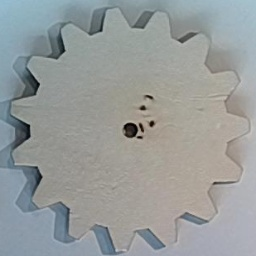Points: (144, 93, 155, 102), (138, 122, 146, 134), (139, 104, 147, 112), (148, 120, 156, 128), (135, 135, 145, 140)
